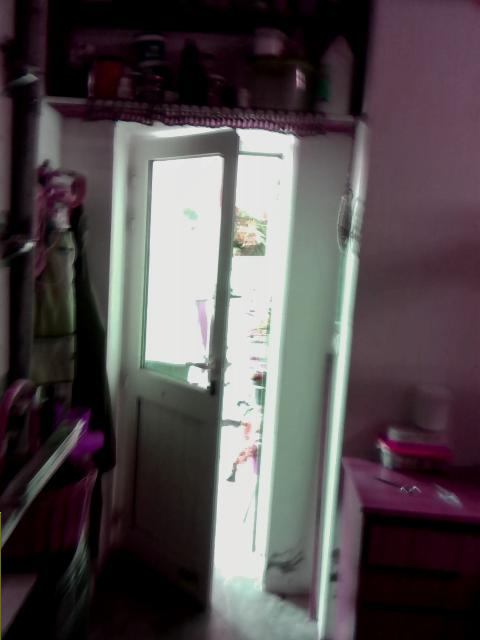semi_door: (129, 126, 294, 614)
